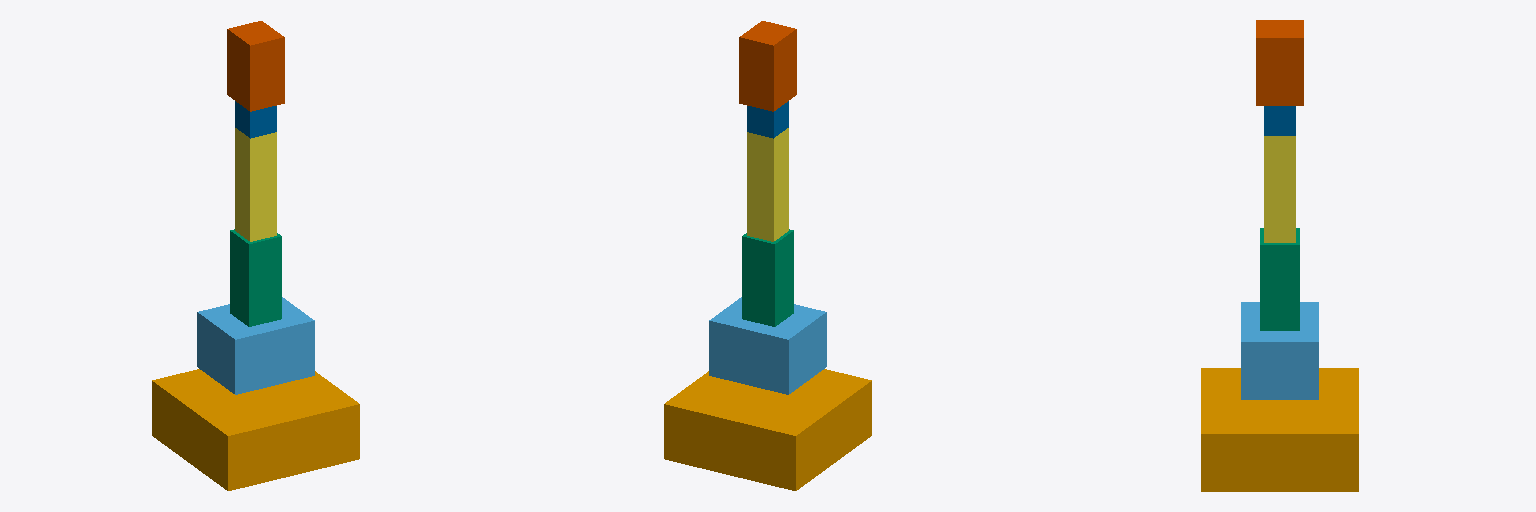
URDF robot description (bude_prototype):
<?xml version="1.0"?>
<!-- Schematic kinematic model; collision boxes are NOT CAD geometry or a safety guarantee. Units: m, rad, kg. -->
<robot name="bude_prototype">
  <link name="base_link"><visual><geometry><box size="0.10 0.10 0.04"/></geometry></visual><collision><geometry><box size="0.10 0.10 0.04"/></geometry></collision><inertial><mass value="0.25"/><inertia ixx="0.0003" ixy="0" ixz="0" iyy="0.0003" iyz="0" izz="0.0003"/></inertial></link>
  <link name="turret"><visual><geometry><box size="0.06 0.05 0.04"/></geometry></visual><collision><geometry><box size="0.06 0.05 0.04"/></geometry></collision><inertial><mass value="0.10"/><inertia ixx="0.0001" ixy="0" ixz="0" iyy="0.0001" iyz="0" izz="0.0001"/></inertial></link>
  <link name="upper_arm"><visual><origin xyz="0 0 0.04"/><geometry><box size="0.025 0.025 0.08"/></geometry></visual><collision><origin xyz="0 0 0.04"/><geometry><box size="0.025 0.025 0.08"/></geometry></collision><inertial><origin xyz="0 0 0.04"/><mass value="0.09"/><inertia ixx="0.00006" ixy="0" ixz="0" iyy="0.00006" iyz="0" izz="0.00001"/></inertial></link>
  <link name="forearm"><visual><origin xyz="0 0 0.0375"/><geometry><box size="0.020 0.020 0.075"/></geometry></visual><collision><origin xyz="0 0 0.0375"/><geometry><box size="0.020 0.020 0.075"/></geometry></collision><inertial><origin xyz="0 0 0.0375"/><mass value="0.05"/><inertia ixx="0.00003" ixy="0" ixz="0" iyy="0.00003" iyz="0" izz="0.000008"/></inertial></link>
  <link name="wrist"><visual><origin xyz="0 0 0.011"/><geometry><box size="0.020 0.020 0.022"/></geometry></visual><collision><origin xyz="0 0 0.011"/><geometry><box size="0.020 0.020 0.022"/></geometry></collision><inertial><origin xyz="0 0 0.011"/><mass value="0.025"/><inertia ixx="0.000006" ixy="0" ixz="0" iyy="0.000006" iyz="0" izz="0.000006"/></inertial></link>
  <link name="hand"><visual><origin xyz="0 0 0.024"/><geometry><box size="0.026 0.03 0.048"/></geometry></visual><collision><origin xyz="0 0 0.024"/><geometry><box size="0.026 0.03 0.048"/></geometry></collision><inertial><origin xyz="0 0 0.024"/><mass value="0.04"/><inertia ixx="0.00001" ixy="0" ixz="0" iyy="0.00001" iyz="0" izz="0.00001"/></inertial></link>
  <link name="tcp_link"><inertial><mass value="0.001"/><inertia ixx="0.00000001" ixy="0" ixz="0" iyy="0.00000001" iyz="0" izz="0.00000001"/></inertial></link>
  <joint name="base_yaw" type="revolute"><parent link="base_link"/><child link="turret"/><origin xyz="0 0 0.055"/><axis xyz="0 0 1"/><limit lower="-1.570796" upper="1.570796" effort="0.3" velocity="0.8"/></joint>
  <!-- Each pitch axis is +Y: at 0 links point straight up, positive bends forward -->
  <joint name="shoulder_pitch" type="revolute"><parent link="turret"/><child link="upper_arm"/><axis xyz="0 1 0"/><limit lower="-1.308997" upper="1.483530" effort="0.3" velocity="0.8"/></joint>
  <joint name="elbow_pitch" type="revolute"><parent link="upper_arm"/><child link="forearm"/><origin xyz="0 0 0.08"/><axis xyz="0 1 0"/><limit lower="-1.570796" upper="1.570796" effort="0.3" velocity="0.8"/></joint>
  <joint name="wrist_pitch" type="revolute"><parent link="forearm"/><child link="wrist"/><origin xyz="0 0 0.075"/><axis xyz="0 1 0"/><limit lower="-1.483530" upper="1.483530" effort="0.08" velocity="0.8"/></joint>
  <joint name="wrist_roll" type="revolute"><parent link="wrist"/><child link="hand"/><origin xyz="0 0 0.022"/><axis xyz="0 0 1"/><limit lower="-1.570796" upper="1.570796" effort="0.08" velocity="0.8"/></joint>
  <joint name="tcp_fixed" type="fixed"><parent link="hand"/><child link="tcp_link"/><origin xyz="0 0 0.048"/></joint>
</robot>

--- What the picture shows (computed from the rendered views, not written in the file) ---
The picture shows the robot from 3 angles, left to right: view 1: azimuth 30°, elevation 25°; view 2: azimuth 150°, elevation 25°; view 3: azimuth 270°, elevation 25°; orthographic projection.
Model bude_prototype with 7 links and 6 joints (5 revolute, 1 fixed), rooted at base_link, posed all joints at 0.
Links seen in each view (by area): view 1: base_link, turret, hand, upper_arm, forearm, wrist; view 2: base_link, turret, hand, upper_arm, forearm, wrist; view 3: base_link, turret, hand, upper_arm, forearm, wrist.
Link boxes in pixels (<box>): base_link: <box>152,369,359,490</box>; turret: <box>197,297,314,394</box>; hand: <box>227,21,284,111</box>; upper_arm: <box>230,229,281,326</box>; forearm: <box>235,128,276,241</box>; wrist: <box>235,101,276,138</box>; base_link: <box>664,369,871,490</box>; turret: <box>709,297,826,394</box>; hand: <box>739,21,796,111</box>; upper_arm: <box>742,229,793,326</box>; forearm: <box>747,128,788,241</box>; wrist: <box>747,101,788,138</box>; base_link: <box>1201,368,1358,491</box>; turret: <box>1241,302,1318,399</box>; hand: <box>1256,20,1303,105</box>; upper_arm: <box>1260,228,1299,330</box>; forearm: <box>1264,136,1295,242</box>; wrist: <box>1264,106,1295,135</box>.
Bounding box of the posed robot: 0.1 × 0.1 × 0.3 m (x, y, z).
Geometry: primitives only (box / cylinder / sphere), no mesh files.
